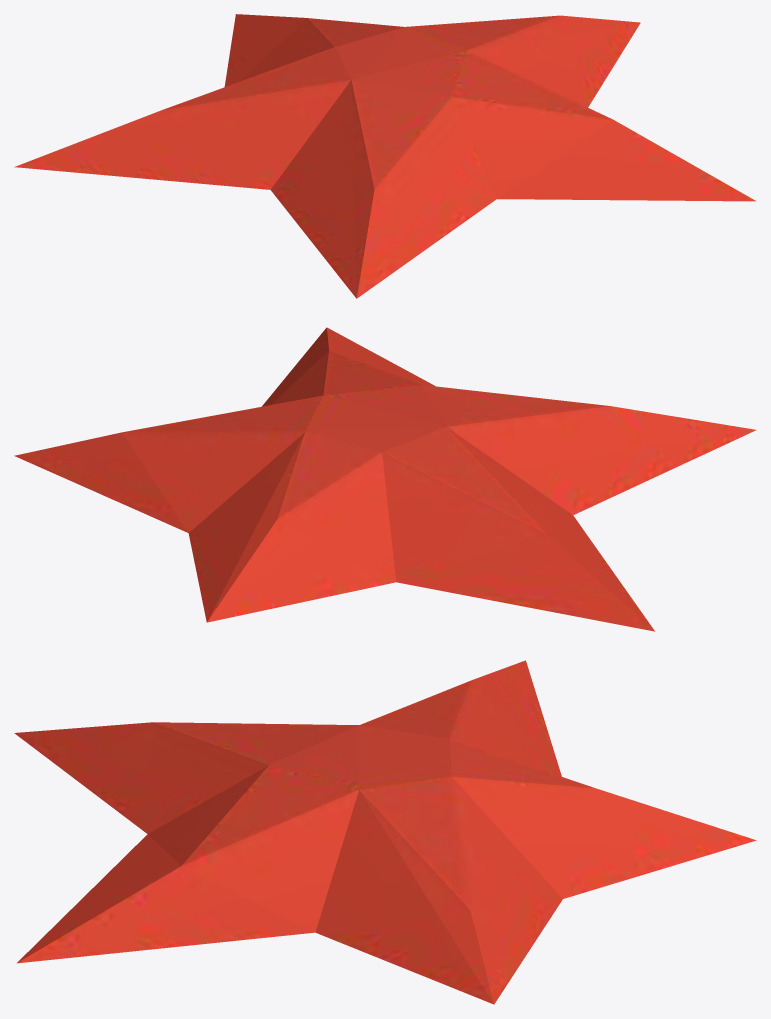
Rendered from starfish.glb.
3 renders of one model, top to bottom at view 1: azimuth 30°, elevation 25°; view 2: azimuth 150°, elevation 25°; view 3: azimuth 270°, elevation 25°, orthographic. The views are drawn at different scales.
Visible parts, largest first — view 1: starfish; view 2: starfish; view 3: starfish.
Boxes of the visible parts, x1,y1,x2,y2 form: starfish: [14, 14, 755, 298]; starfish: [14, 327, 756, 631]; starfish: [14, 660, 756, 1004].
Size of the model in its own units: 0.2893 by 0.0355 by 0.2596.
Materials: 1 (1 with a texture image).
